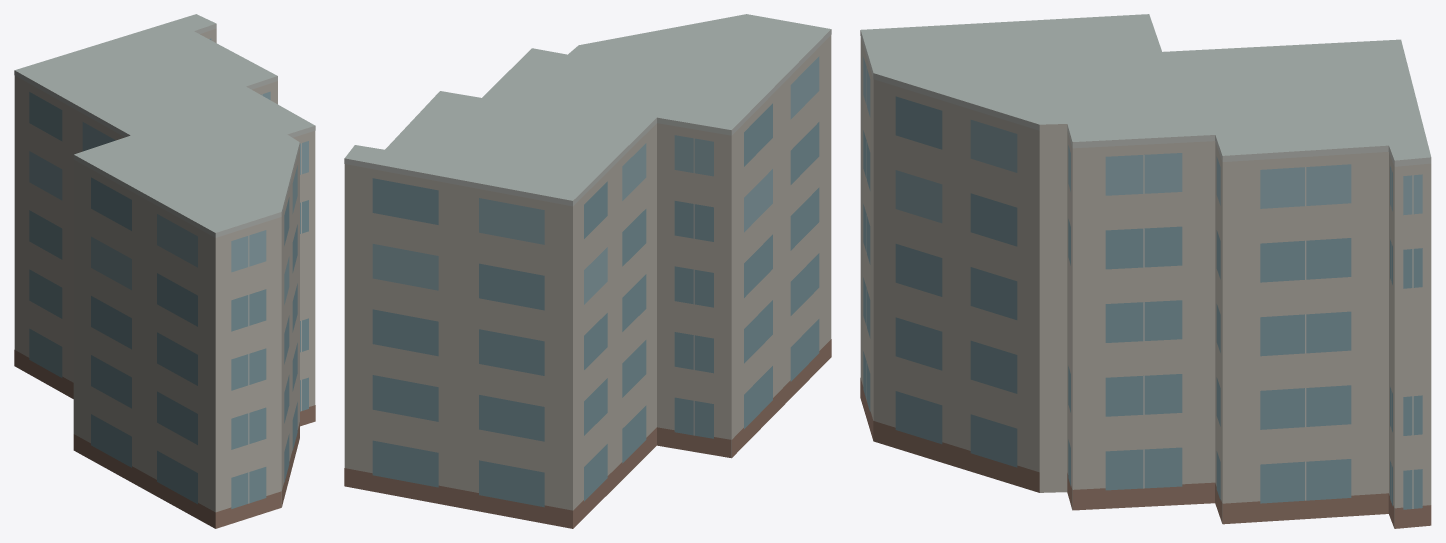
Rendered from survey-upis-33026430.glb.
3 views of the same model, side by side, from view 1: azimuth 30°, elevation 25°; view 2: azimuth 150°, elevation 25°; view 3: azimuth 270°, elevation 25° (orthographic). The views are drawn at different scales.
Visible parts, largest first — view 1: survey-upis-33026430.tmp; view 2: survey-upis-33026430.tmp; view 3: survey-upis-33026430.tmp.
Part boxes in pixels (x1,y1,x2,y2): survey-upis-33026430.tmp: (14, 14, 315, 528); survey-upis-33026430.tmp: (344, 14, 831, 528); survey-upis-33026430.tmp: (860, 14, 1431, 528).
Bounding box in the file's own units: 12.43 × 14.55 × 20.45.
